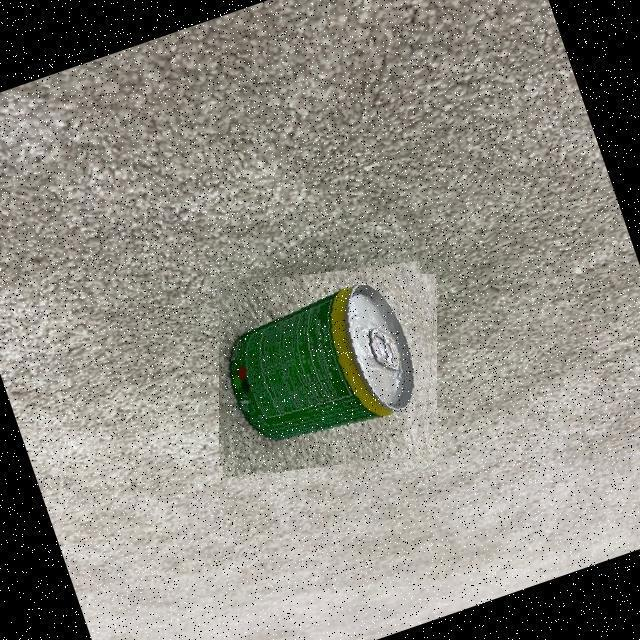recyclable: (219, 259, 438, 478)
